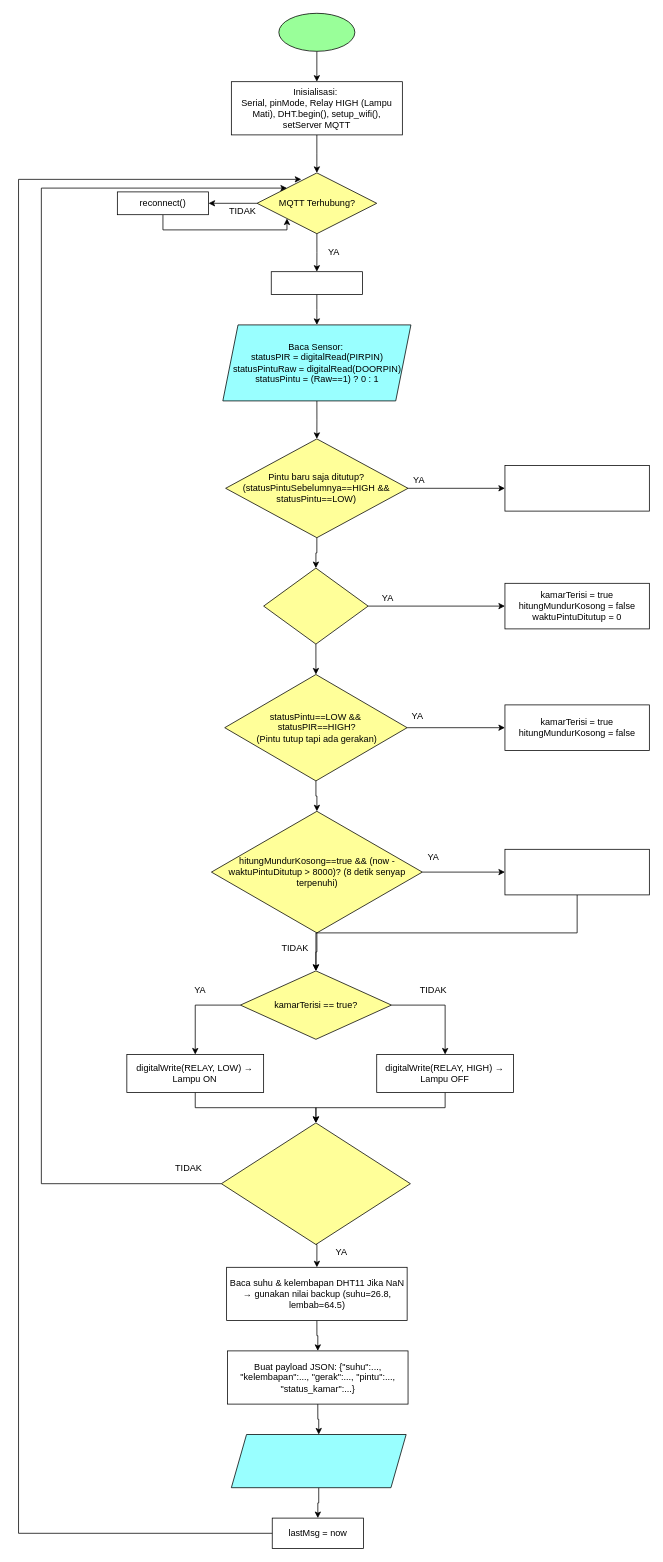
This 663x1562 diagram has some shape labels left out. The centre of each missing label's shape, as x and y in pixels:
Catat waktuPintuDitutup = now hitungMundurKosong = true: the point at 576,488
clien.loop(): the point at 316,282
kamarTerisi = false hitungMundurKosong = false waktuPintuDitutup = 0: the point at 576,872
now - lastMsg > 2000? (Sudah 2 detik sejak kirim terakhir?): the point at 315,1183
Publish payload ke MQTT topic: "hotel/kamar1": the point at 318,1461
Start: the point at 316,32
statusPintu == HIGH (Pintu Terbuka)?: the point at 315,605
